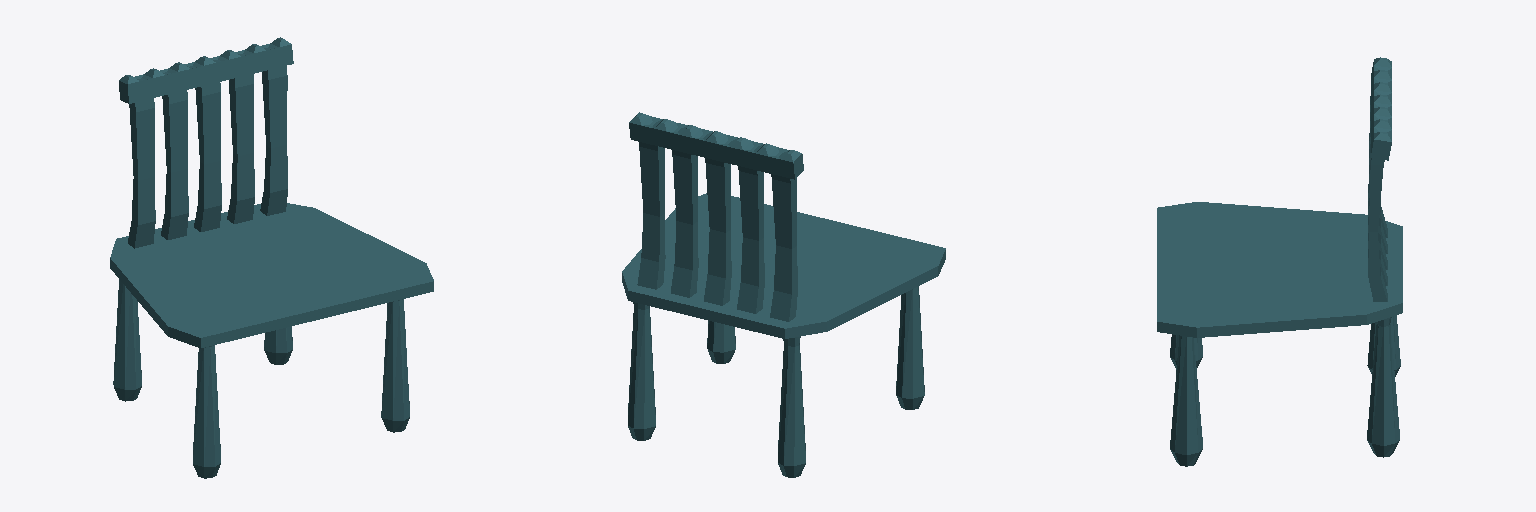
Rendered from Texture_Chair.obj.
3 renders of one model, left to right at view 1: azimuth 30°, elevation 25°; view 2: azimuth 150°, elevation 25°; view 3: azimuth 270°, elevation 25°, orthographic.
Parts seen in each view (by area): view 1: Seat, Back2 Back3 Back5 Back4 Back1, Leg5 Leg4 Leg7 Leg6, Top; view 2: Seat, Back2 Back3 Back5 Back4 Back1, Leg5 Leg4 Leg7 Leg6, Top; view 3: Seat, Leg5 Leg4 Leg7 Leg6, Back2 Back3 Back5 Back4 Back1, Top.
Boxes of the visible parts, <box> form: Seat: <box>110,203,433,348</box>; Back2 Back3 Back5 Back4 Back1: <box>128,66,287,248</box>; Leg5 Leg4 Leg7 Leg6: <box>113,279,409,478</box>; Top: <box>119,37,293,103</box>; Seat: <box>622,193,945,338</box>; Back2 Back3 Back5 Back4 Back1: <box>637,142,797,321</box>; Leg5 Leg4 Leg7 Leg6: <box>628,286,924,477</box>; Top: <box>629,112,803,179</box>; Seat: <box>1157,202,1402,337</box>; Leg5 Leg4 Leg7 Leg6: <box>1170,315,1400,466</box>; Back2 Back3 Back5 Back4 Back1: <box>1368,96,1387,301</box>; Top: <box>1371,57,1391,160</box>.
Size of the model in its own units: 83.19 by 99.15 by 68.54.